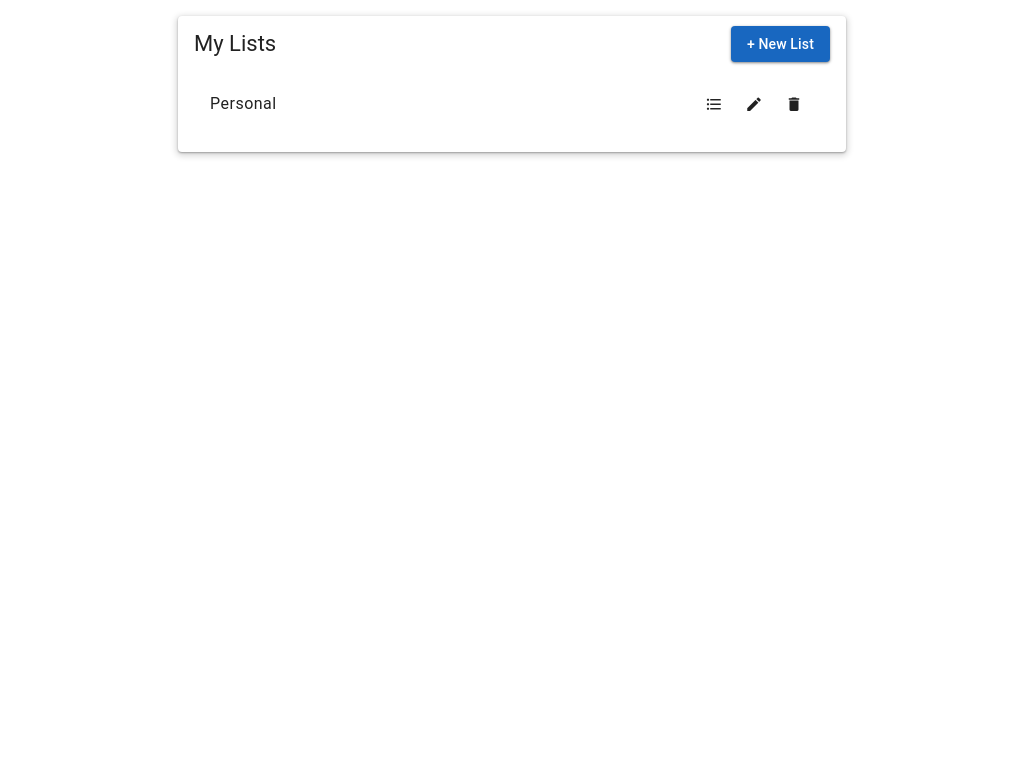
Feature 3 — Todo List Item Management › US-3.2 — View tasks in a list › List items dialog shows empty state
Click the button named "Items" at (714, 104), box [694,84,734,124]
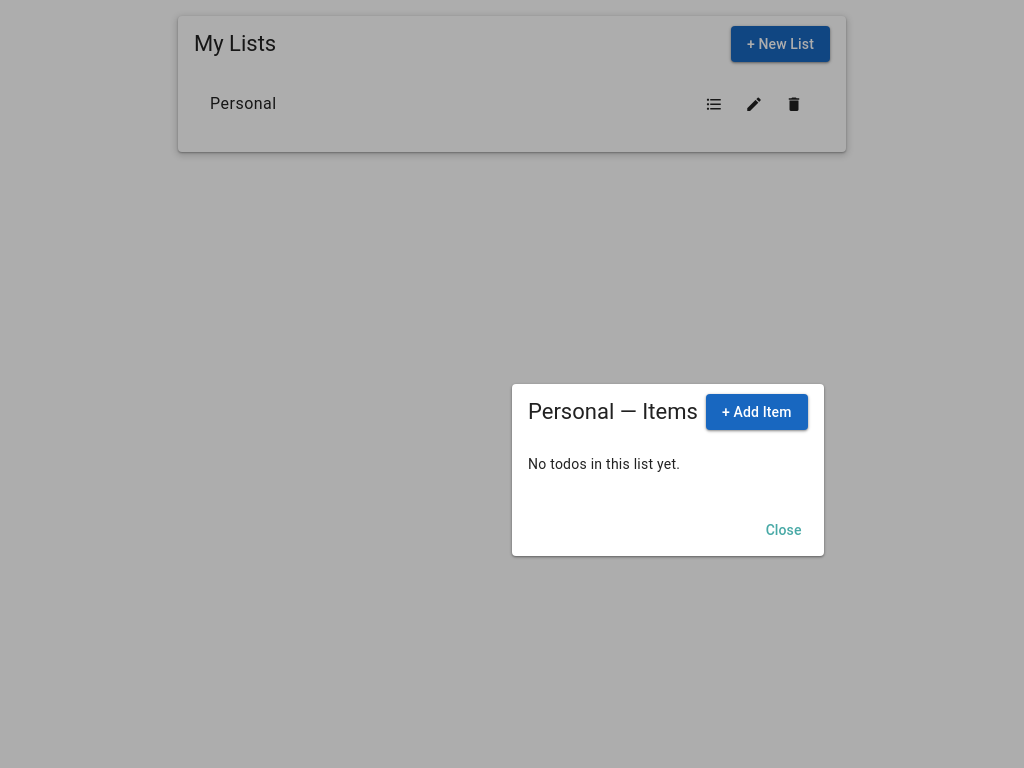
Now the text "No todos in this list yet." is shown, box [528,456,680,472]
